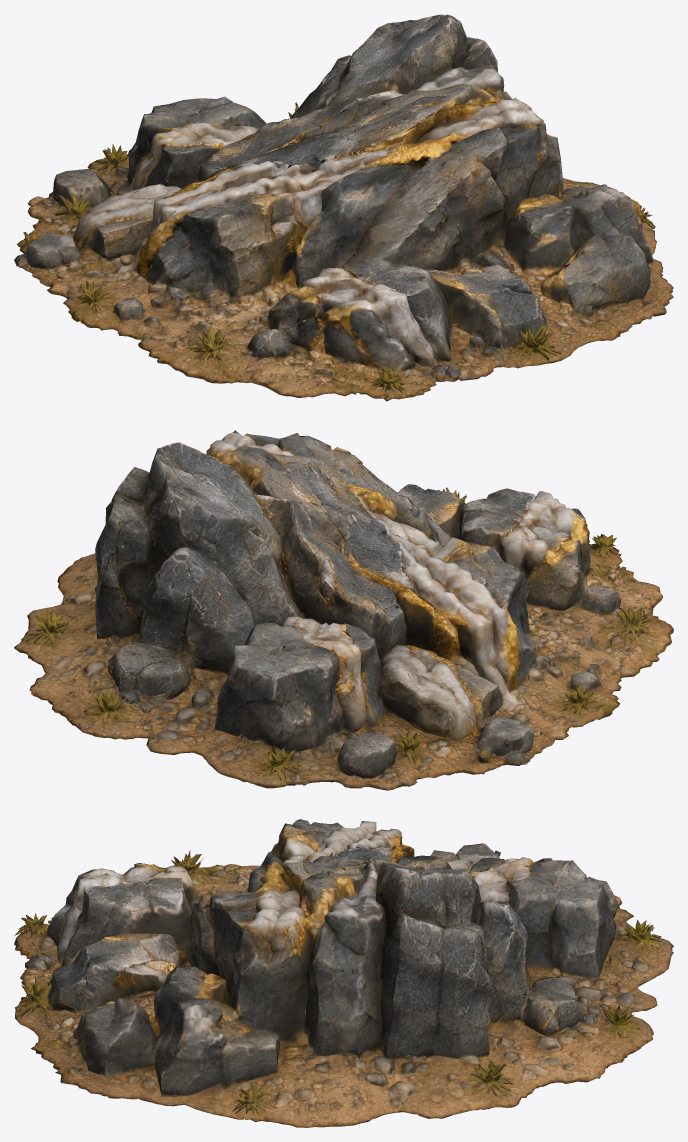
The model's file is SM_YacimientoOro.fbx.
The picture shows the model from 3 angles, top to bottom: view 1: azimuth 30°, elevation 25°; view 2: azimuth 150°, elevation 25°; view 3: azimuth 270°, elevation 25°; orthographic projection. The views are drawn at different scales.
Visible parts, largest first — view 1: SM_YacimientoOro; view 2: SM_YacimientoOro; view 3: SM_YacimientoOro.
Boxes of the visible parts, bbox=[...] form: SM_YacimientoOro: bbox=[14, 14, 673, 401]; SM_YacimientoOro: bbox=[14, 430, 673, 790]; SM_YacimientoOro: bbox=[14, 819, 673, 1127].
Bounding box in the file's own units: 97.58 × 31.79 × 100.
Materials: 1 (1 with a texture image).
